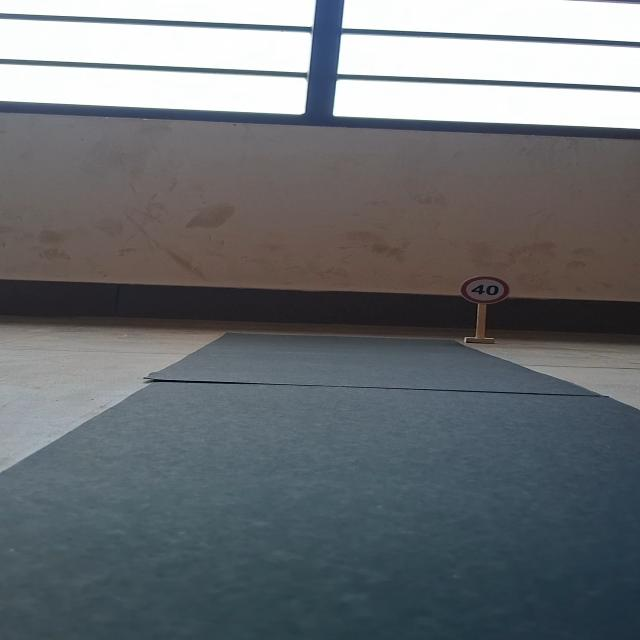Speed40: (453, 270, 517, 307)
